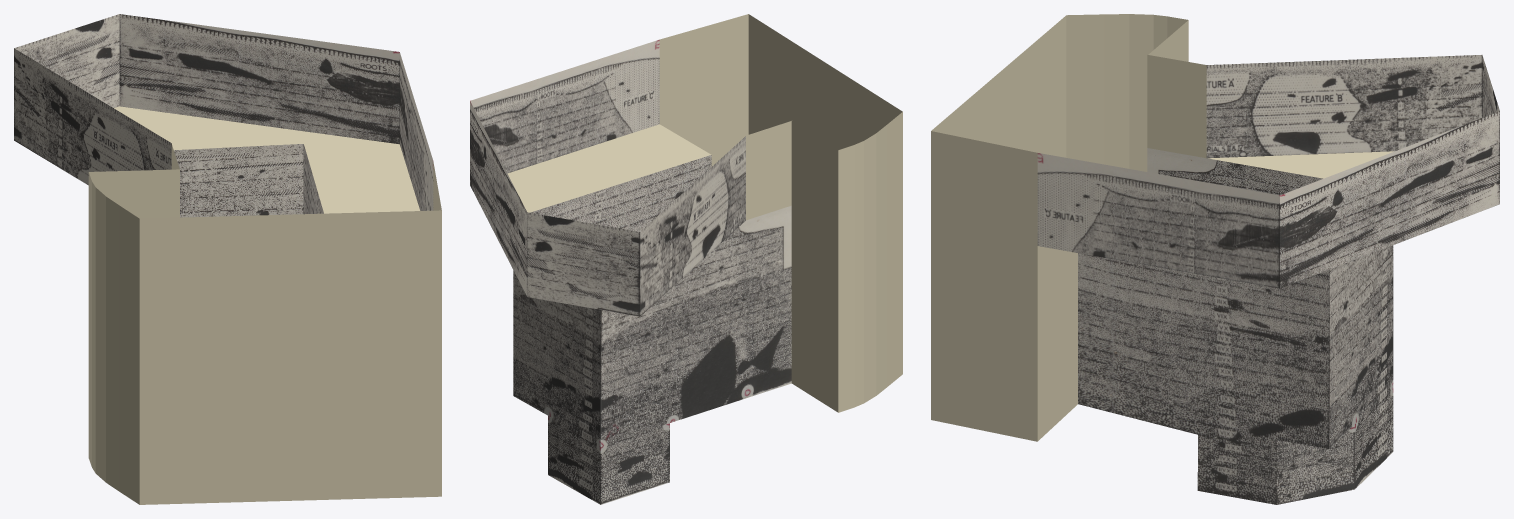
The model's file is KSII_Leakey_Inskeep.glb.
The picture shows the model from 3 angles, left to right: view 1: azimuth 30°, elevation 25°; view 2: azimuth 150°, elevation 25°; view 3: azimuth 270°, elevation 25°; orthographic projection. The views are drawn at different scales.
Visible parts, largest first — view 1: Leakey_Inskeep_Estimate; view 2: Leakey_Inskeep_Estimate; view 3: Leakey_Inskeep_Estimate.
Boxes of the visible parts, box(x1,y1,x2,y2) form: Leakey_Inskeep_Estimate: box(14, 14, 441, 504); Leakey_Inskeep_Estimate: box(470, 14, 902, 504); Leakey_Inskeep_Estimate: box(931, 14, 1499, 504).
Size of the model in its own units: 6.36 by 5.79 by 8.43.
Materials: 3 (2 with a texture image).
